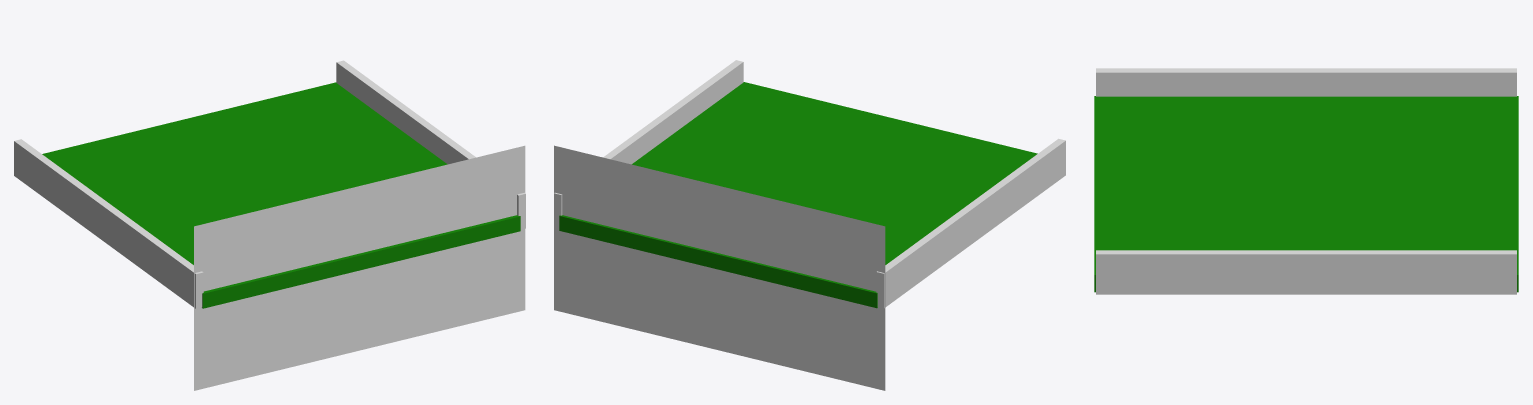
The model's file is straight.glb.
The picture shows the model from 3 angles, left to right: view 1: azimuth 30°, elevation 25°; view 2: azimuth 150°, elevation 25°; view 3: azimuth 270°, elevation 25°; orthographic projection. The views are drawn at different scales.
Visible parts, largest first — view 1: obj_snap, Cube, Cube.001, Cube.002; view 2: obj_snap.001, Cube, Cube.001, Cube.002; view 3: Cube, Cube.002, Cube.001.
Part boxes in pixels (x1,y1,x2,y2): obj_snap: [194, 145, 525, 390]; Cube: [42, 82, 520, 308]; Cube.001: [14, 139, 203, 308]; Cube.002: [336, 60, 525, 229]; obj_snap.001: [554, 145, 885, 390]; Cube: [559, 82, 1037, 308]; Cube.001: [876, 138, 1065, 308]; Cube.002: [554, 60, 743, 229]; Cube: [1094, 96, 1518, 292]; Cube.002: [1096, 250, 1516, 294]; Cube.001: [1096, 68, 1516, 96].
Bounding box in the file's own units: 4.21 × 2 × 4.04.
